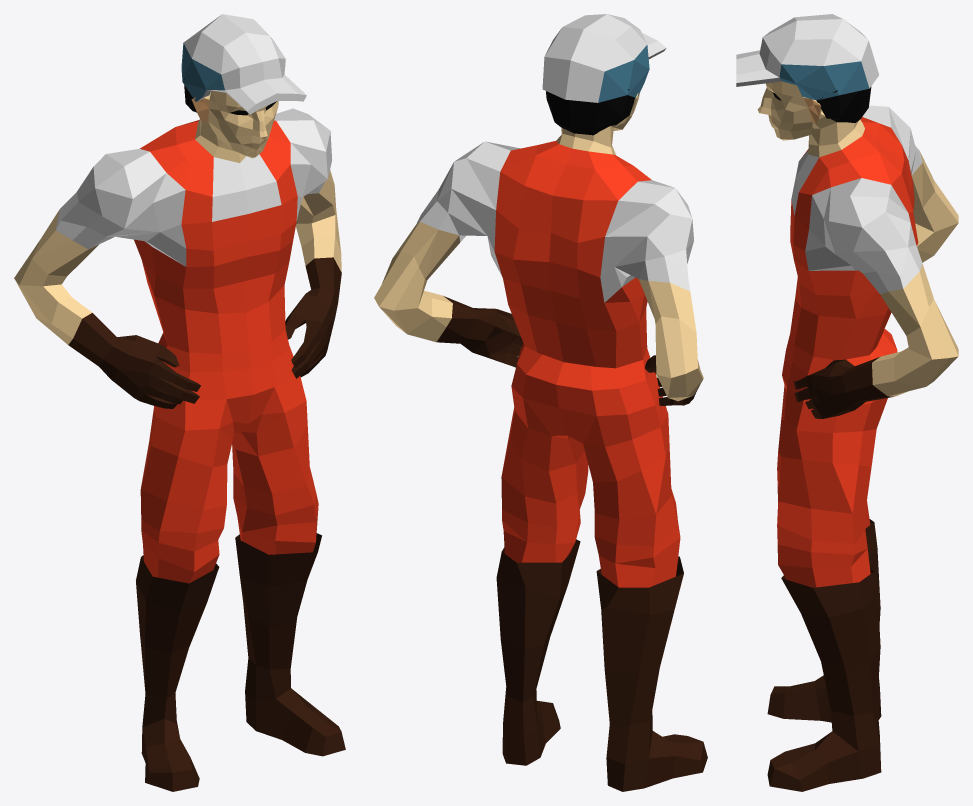
Rendered from Male_pose_02.FBX.
3 views of the same model, side by side, from view 1: azimuth 30°, elevation 25°; view 2: azimuth 150°, elevation 25°; view 3: azimuth 270°, elevation 25° (orthographic).
Parts seen in each view (by area): view 1: Male_pose_02; view 2: Male_pose_02; view 3: Male_pose_02.
Boxes of the visible parts, x1,y1,x2,y2 form: Male_pose_02: (14, 14, 345, 791); Male_pose_02: (374, 14, 707, 791); Male_pose_02: (736, 14, 958, 791).
Size of the model in its own units: 0.8321 by 1.83 by 0.509.
1 material, 1 textured.
